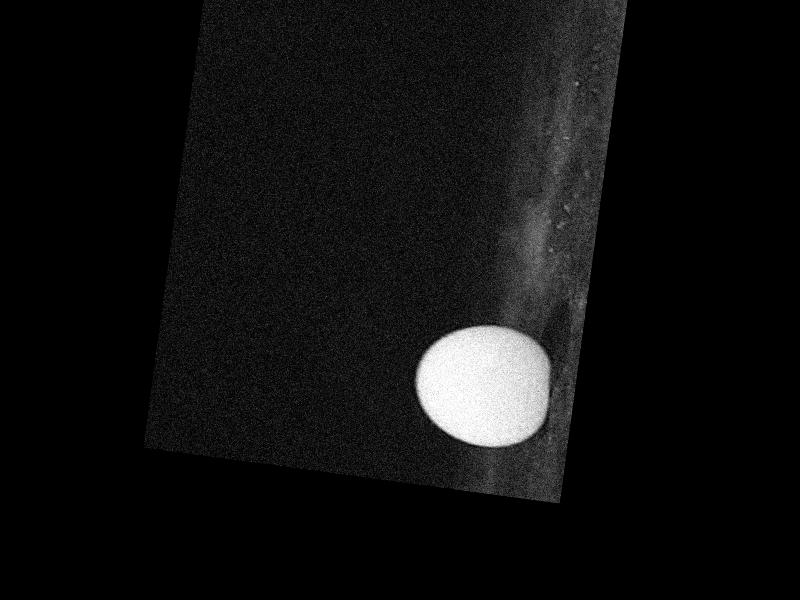Eggs: (407, 315, 555, 453)
